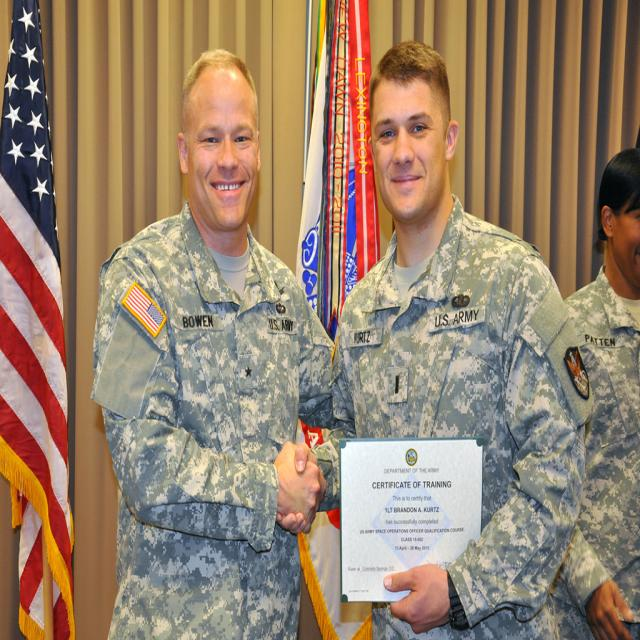no_helmet: (348, 130, 487, 276), (154, 134, 286, 269), (561, 182, 640, 338)
